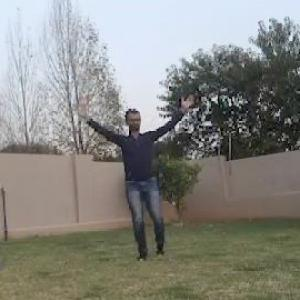takeoff: (79, 98, 200, 259)
